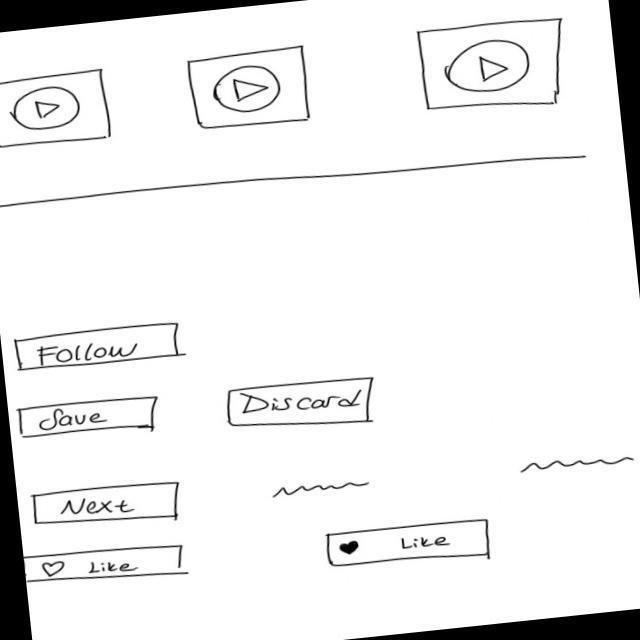button: (224, 373, 383, 440), (322, 515, 496, 576), (12, 320, 184, 376), (24, 538, 187, 593), (29, 478, 186, 533), (16, 392, 163, 444)
text: (516, 448, 640, 478), (271, 476, 374, 501)
